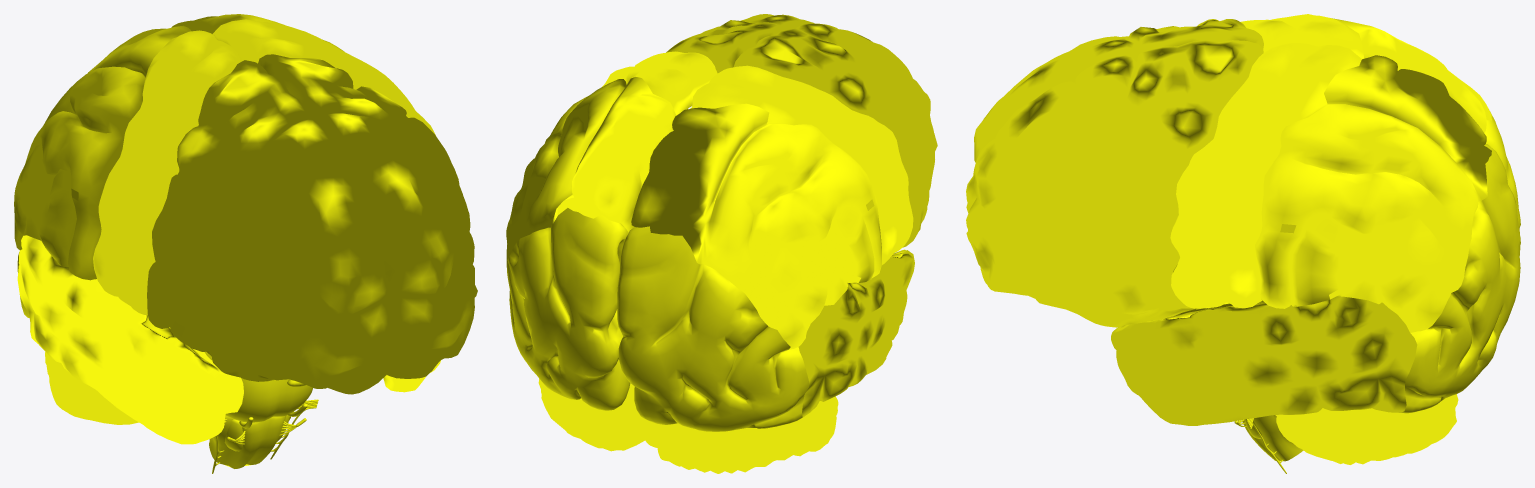
The model's file is brain.glb.
3 renders of one model, left to right at view 1: azimuth 30°, elevation 25°; view 2: azimuth 150°, elevation 25°; view 3: azimuth 270°, elevation 25°, orthographic. The views are drawn at different scales.
Parts seen in each view (by area): view 1: Frontal Lobe, Motor and Sensor Cortex, Temporal Lobe, Cerebral_hemispheres_R, Brainstem_Spinal_cord, Cerebellum; view 2: Cerebral_hemispheres_R, object 17, Frontal Lobe, Motor and Sensor Cortex, Cerebellum, Temporal Lobe; view 3: Frontal Lobe, Cerebral_hemispheres_R, Temporal Lobe, Motor and Sensor Cortex, object 17, Cerebellum, Brainstem_Spinal_cord.
Part boxes in pixels (x1,y1,x2,y2): Frontal Lobe: [147, 54, 477, 394]; Motor and Sensor Cortex: [93, 19, 435, 315]; Temporal Lobe: [17, 235, 440, 444]; Cerebral_hemispheres_R: [14, 14, 344, 280]; Brainstem_Spinal_cord: [204, 351, 312, 468]; Cerebellum: [45, 352, 138, 424]; Cerebral_hemispheres_R: [506, 77, 881, 349]; object 17: [507, 208, 808, 431]; Frontal Lobe: [666, 14, 937, 247]; Motor and Sensor Cortex: [602, 51, 913, 264]; Cerebellum: [538, 378, 838, 473]; Temporal Lobe: [798, 249, 914, 417]; Frontal Lobe: [966, 19, 1263, 327]; Cerebral_hemispheres_R: [1255, 18, 1491, 332]; Temporal Lobe: [1111, 214, 1417, 425]; Motor and Sensor Cortex: [1170, 14, 1363, 309]; object 17: [1401, 111, 1520, 413]; Cerebellum: [1275, 394, 1458, 464]; Brainstem_Spinal_cord: [1173, 264, 1303, 461].
Size of the model in its own units: 0.1104 by 0.1239 by 0.1471.
1 material, 1 textured.
